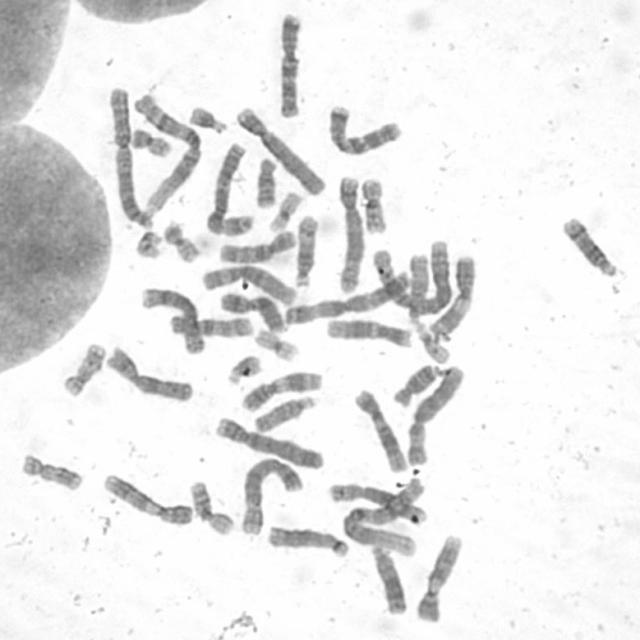A1: (128, 87, 205, 215), (334, 472, 428, 556)
A2: (103, 80, 155, 230), (367, 236, 456, 314)
A3: (278, 265, 414, 325), (200, 137, 254, 236)
B4: (230, 100, 329, 197), (210, 409, 326, 471)
B5: (234, 450, 306, 537), (331, 169, 367, 294)
C10: (214, 223, 299, 265), (162, 309, 255, 339)
C11: (422, 247, 480, 339), (235, 364, 324, 413)
C12: (348, 383, 410, 474), (320, 311, 415, 349)
C6: (400, 358, 468, 467), (196, 257, 298, 307)
C7: (322, 97, 404, 157), (272, 6, 306, 120)
C8: (135, 280, 207, 356), (323, 476, 427, 526)
C9: (97, 467, 195, 527), (410, 528, 465, 624)
D13: (261, 518, 352, 559), (365, 539, 409, 617)
D14: (556, 209, 620, 278), (288, 208, 320, 288)
D15: (248, 390, 319, 434), (398, 255, 436, 321)
E16: (183, 473, 237, 536), (356, 171, 390, 235)
E17: (56, 336, 108, 398), (14, 447, 85, 492)
E18: (387, 358, 444, 408), (249, 150, 279, 208)
F19: (249, 322, 301, 362), (262, 185, 305, 233)
F20: (158, 214, 202, 264), (126, 121, 174, 159)
G21: (182, 99, 230, 136), (220, 348, 264, 386)
G22: (407, 315, 452, 364), (130, 225, 164, 259)
X: (100, 339, 196, 404), (214, 286, 288, 335)
